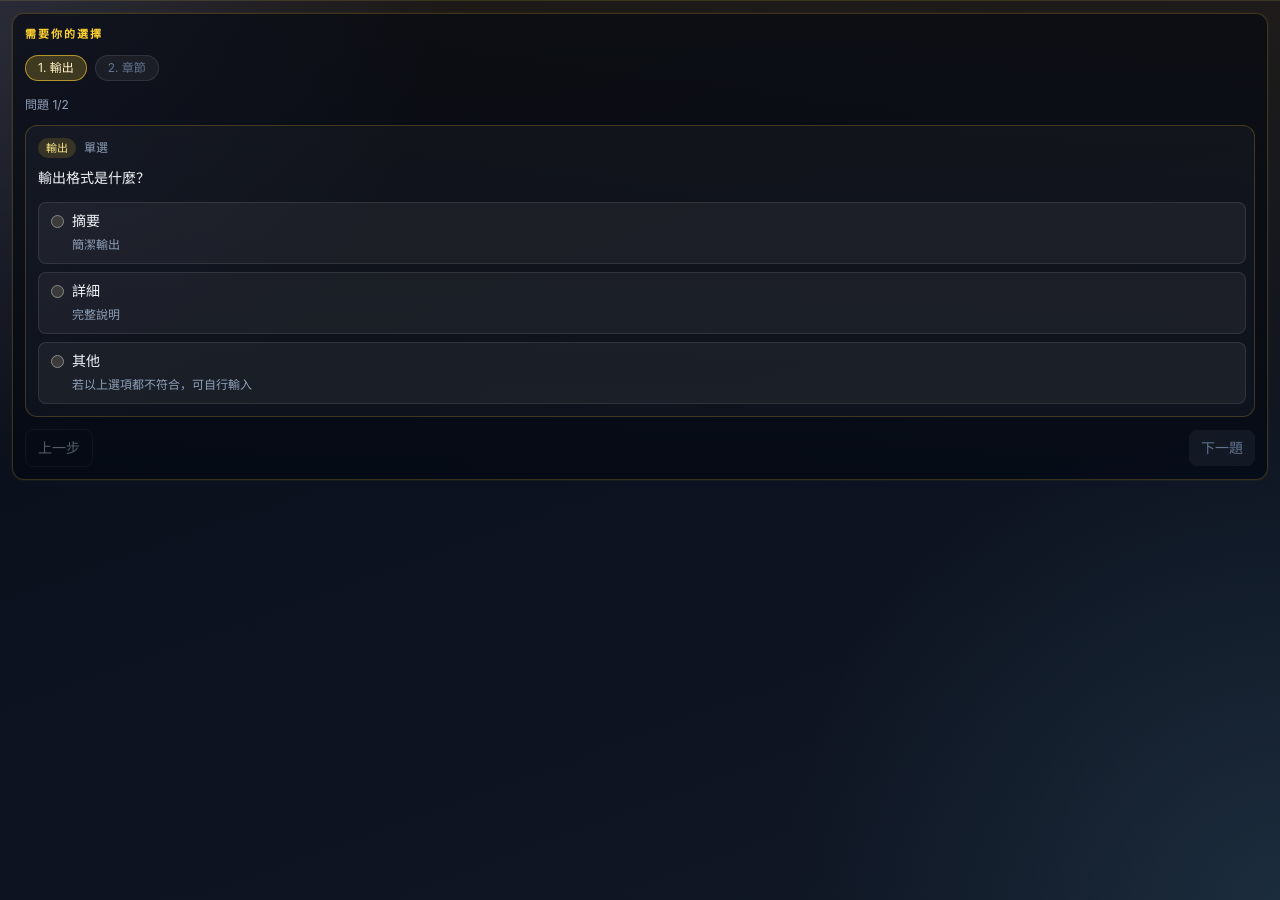
Test: PendingQuestionWizard › keeps answers when navigating backward
Click the radio button labelled "詳細". click: click(58, 292)
box: [51, 285, 64, 298]
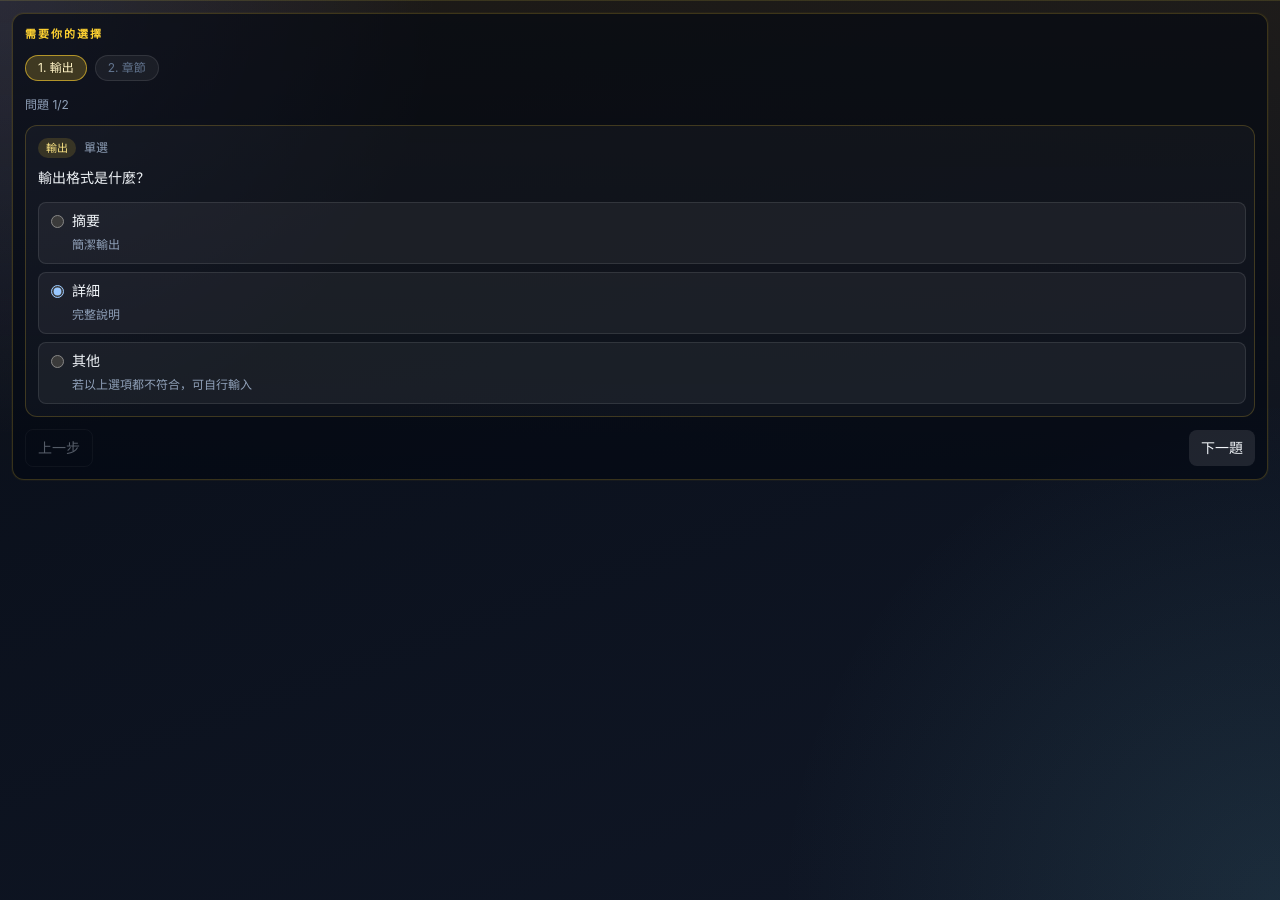
Click the button "下一題". click: click(1222, 448)
box: [1189, 430, 1255, 466]
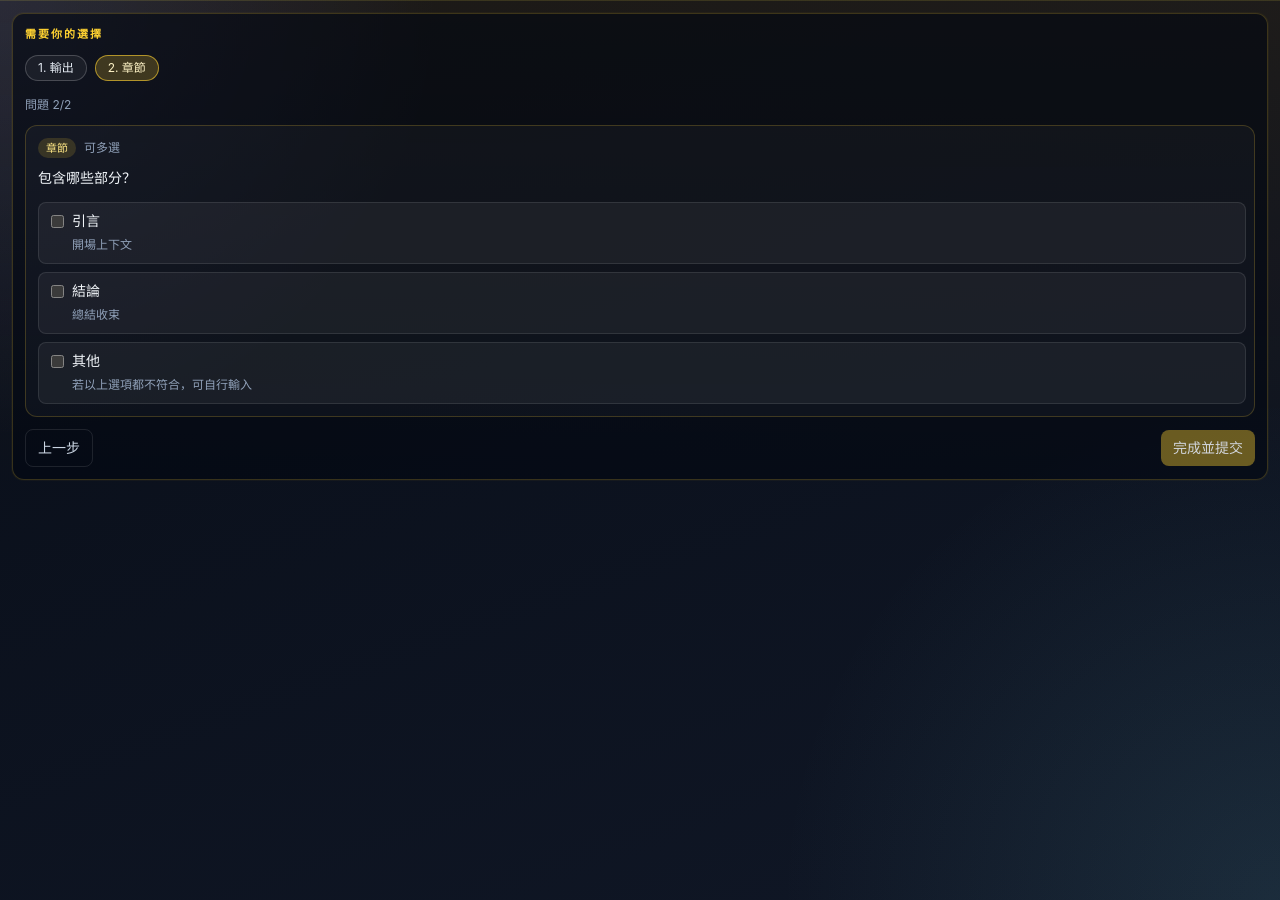
Click the button "上一步". click: click(59, 448)
box: [25, 429, 93, 467]
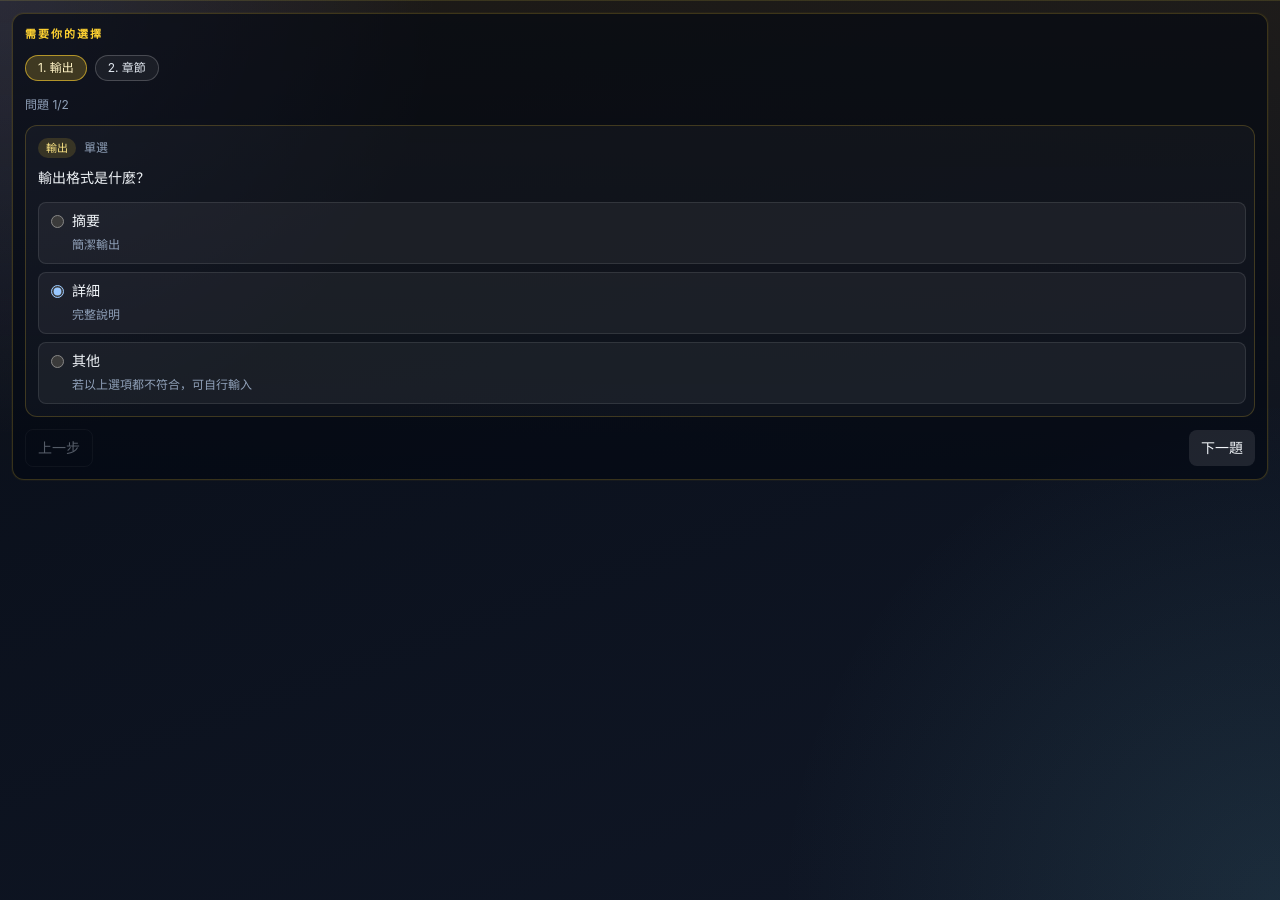
Now the text "輸出格式是什麼？" is shown, box [38, 169, 150, 186]
Now the radio button labelled "詳細" is checked, box [51, 285, 64, 298]
